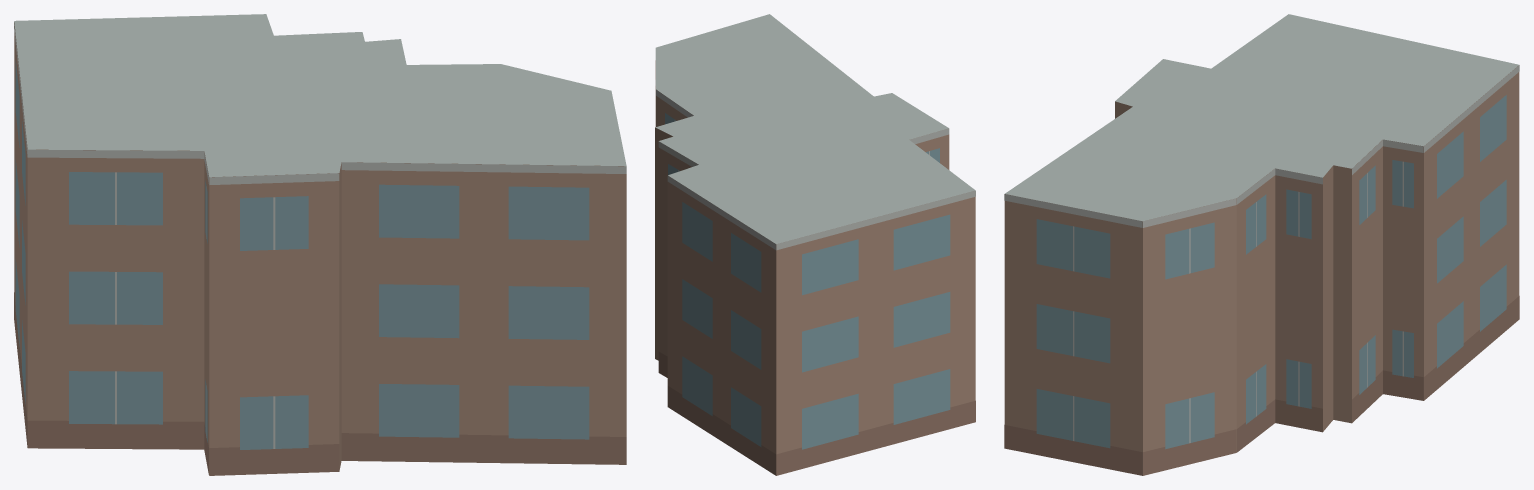
File: survey-upis-32649202.glb
3 renders of one model, left to right at view 1: azimuth 30°, elevation 25°; view 2: azimuth 150°, elevation 25°; view 3: azimuth 270°, elevation 25°, orthographic. The views are drawn at different scales.
Parts seen in each view (by area): view 1: survey-upis-32649202.tmp; view 2: survey-upis-32649202.tmp; view 3: survey-upis-32649202.tmp.
Boxes of the visible parts, x1,y1,x2,y2 form: survey-upis-32649202.tmp: (14,14,626,475); survey-upis-32649202.tmp: (655,14,975,475); survey-upis-32649202.tmp: (1004,14,1519,475).
Size of the model in its own units: 15.98 by 9.15 by 16.78.
